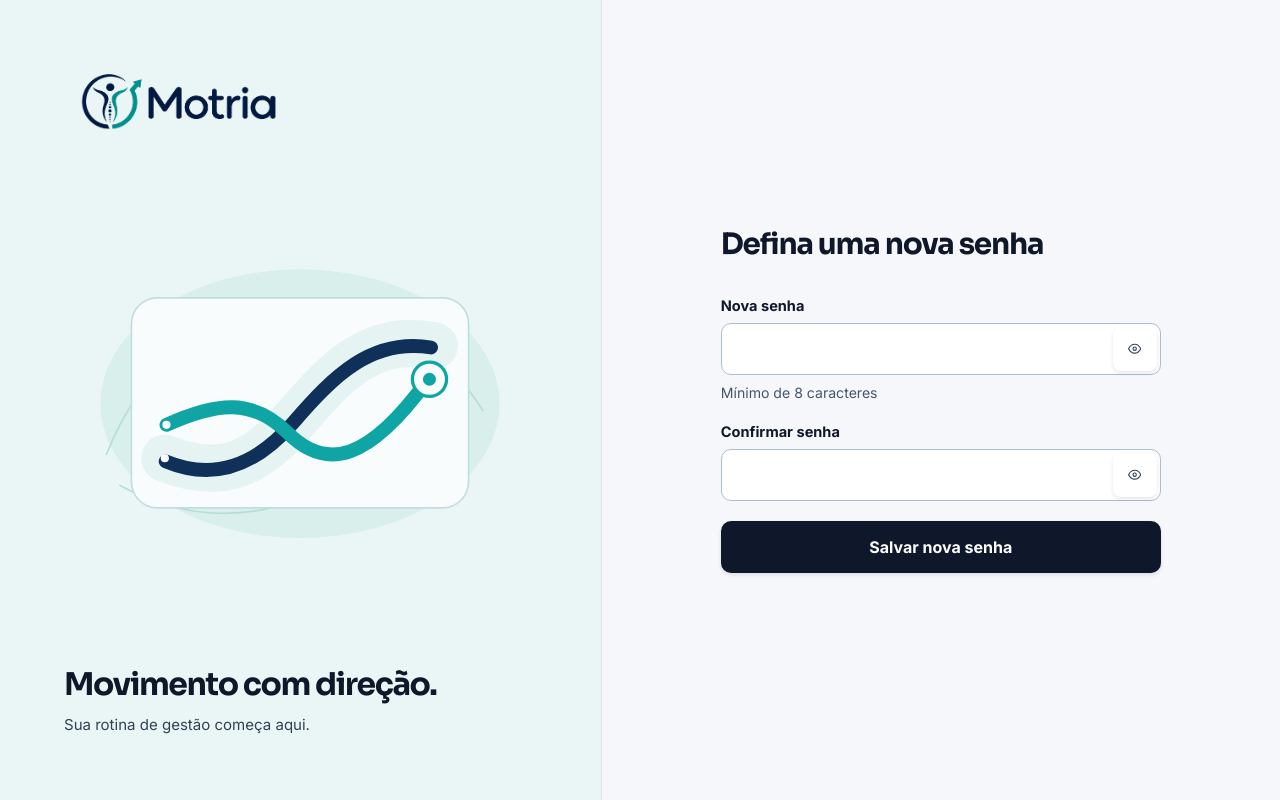
Test: redefinição usa título e ação próprios, visibilidade acessível e conclusão correta
Expected: the heading "Defina uma nova senha" is shown, [721,225,1043,263]
Expected: the text "Mínimo de 8 caracteres" is shown, [721,384,878,401]
Click the button named "Mostrar nova senha".
click(1135, 349)  # box [1113,327,1157,371]
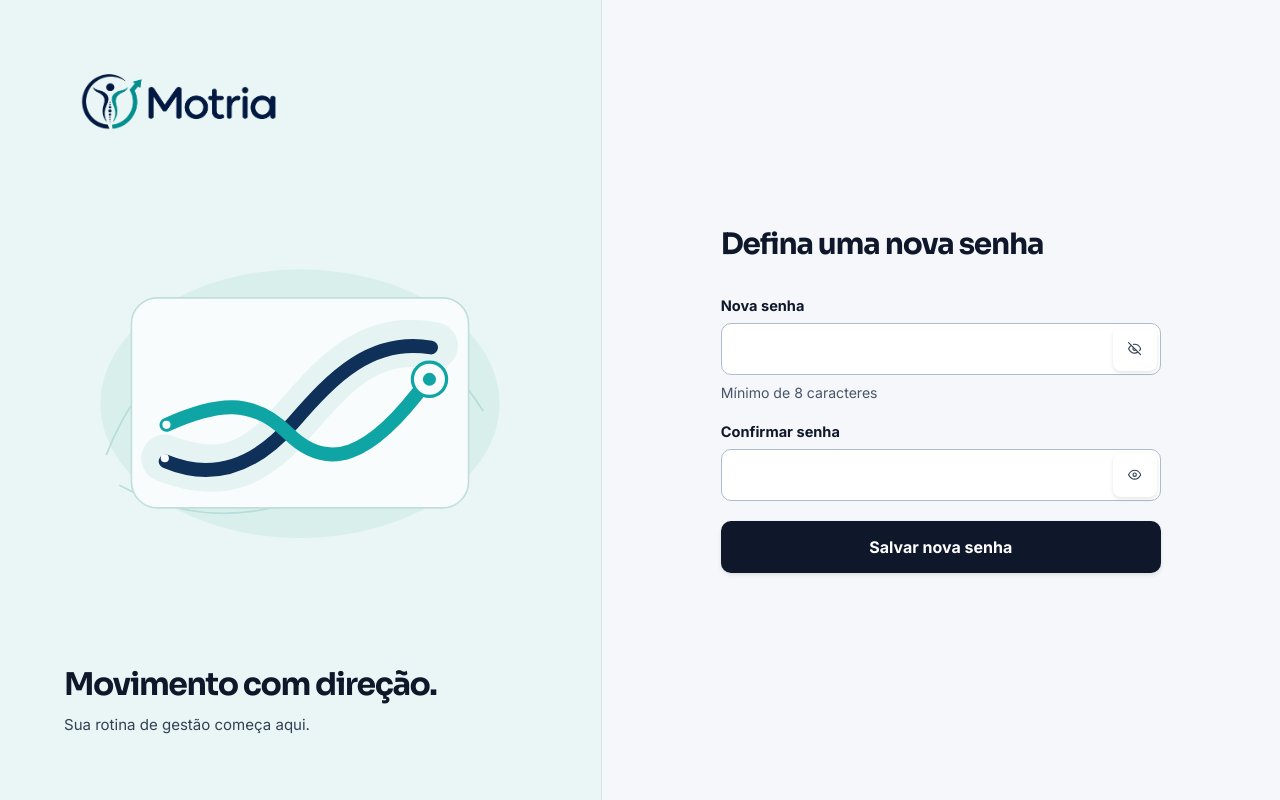
Now the button named "Ocultar nova senha" is pressed, box [1113,327,1157,371]
Click the button named "Mostrar confirmação de senha".
click(1135, 475)  # box [1113,453,1157,497]
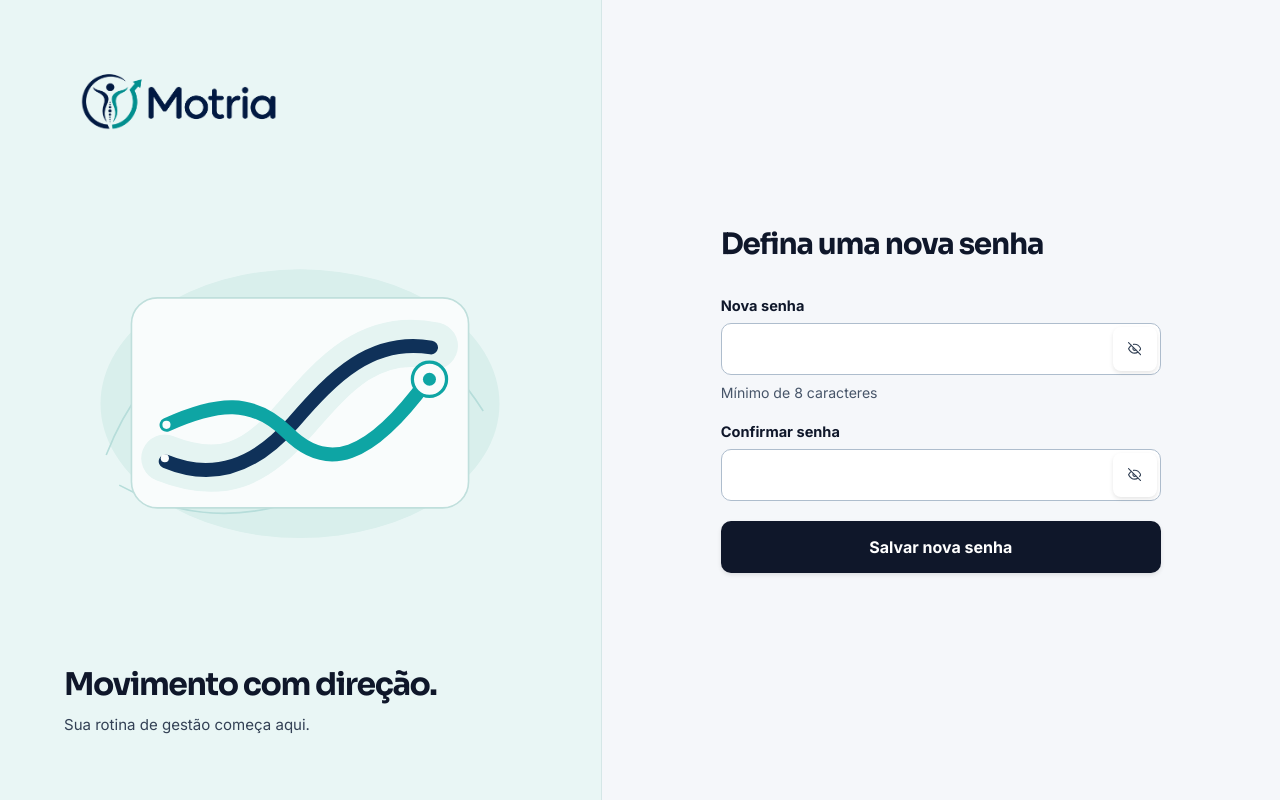
Click the button named "Ocultar confirmação de senha".
click(1135, 475)  # box [1113,453,1157,497]
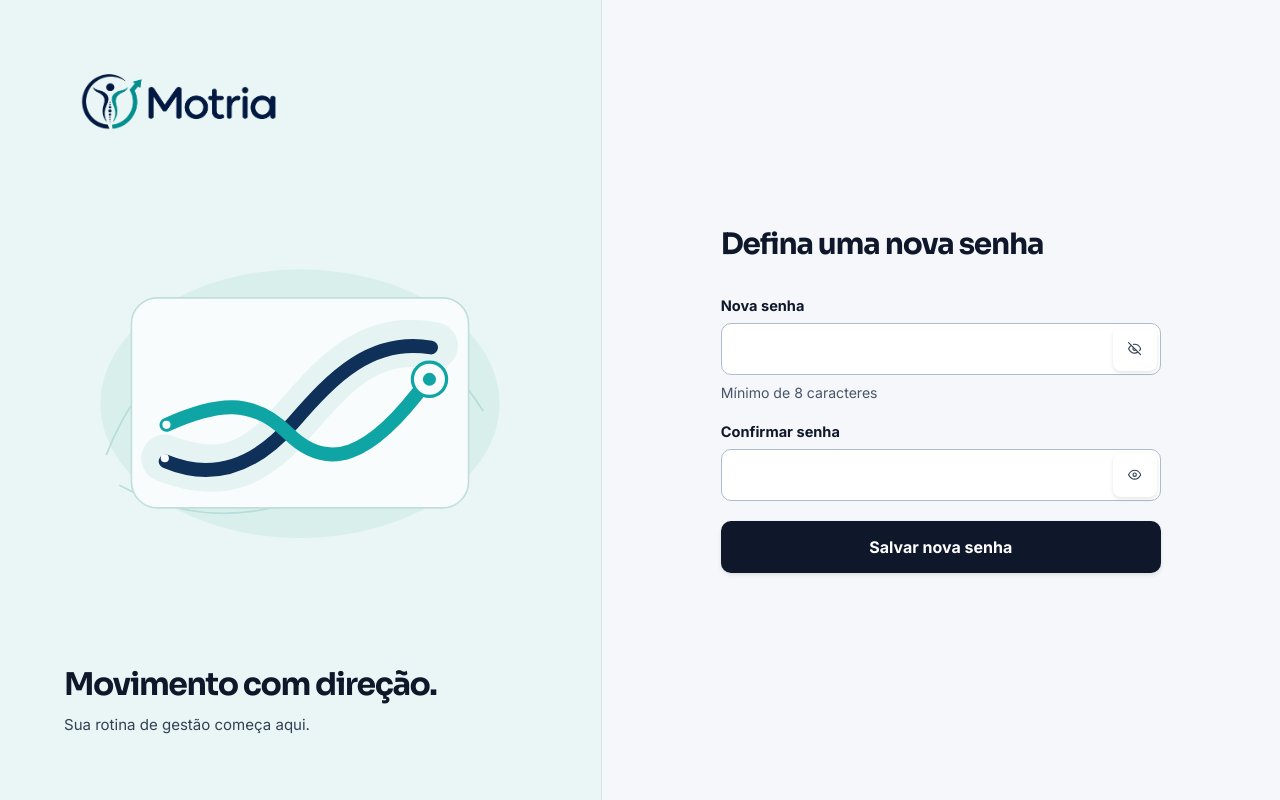
Type "uma senha forte 123" into the field labelled "Nova senha".
click(941, 349); type("uma senha forte 123")  # box [721,323,1161,375]
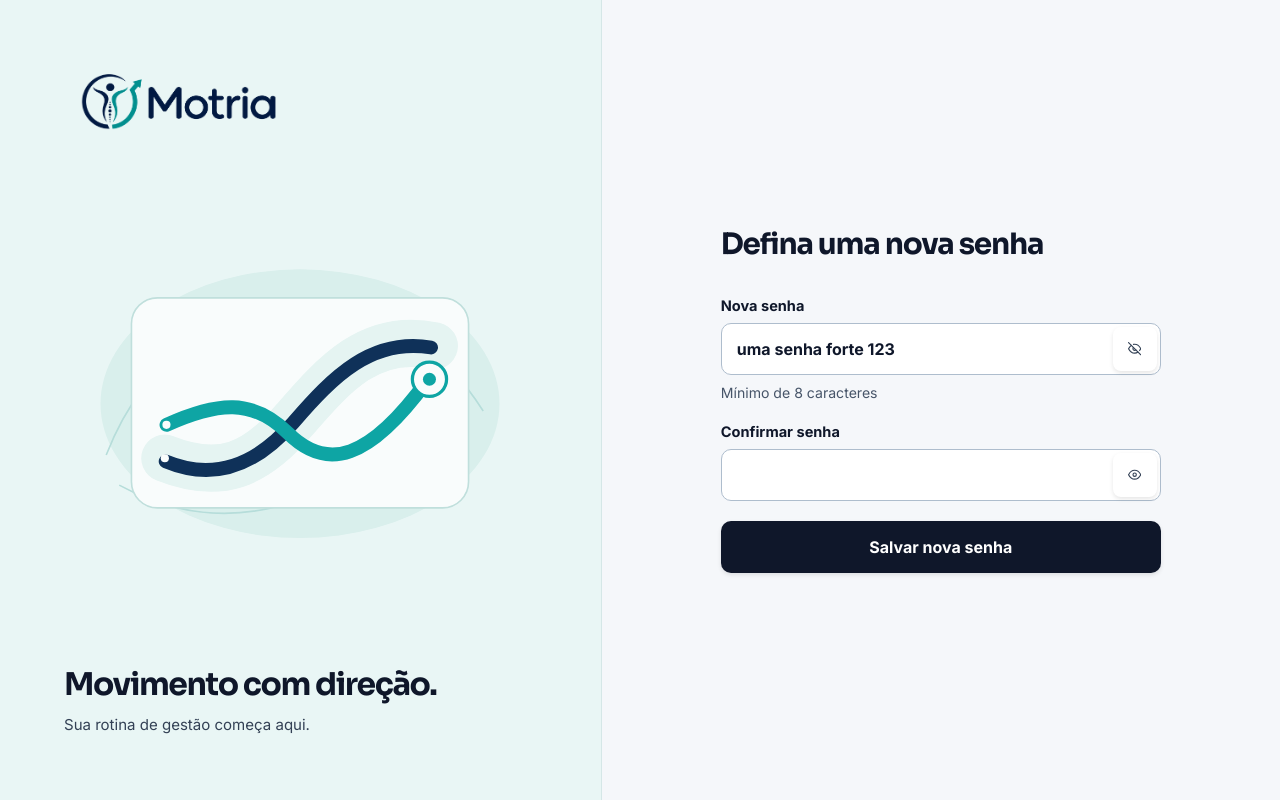
Type "uma senha forte 123" into the password field labelled "Confirmar senha".
click(941, 475); type("uma senha forte 123")  # box [721,449,1161,501]
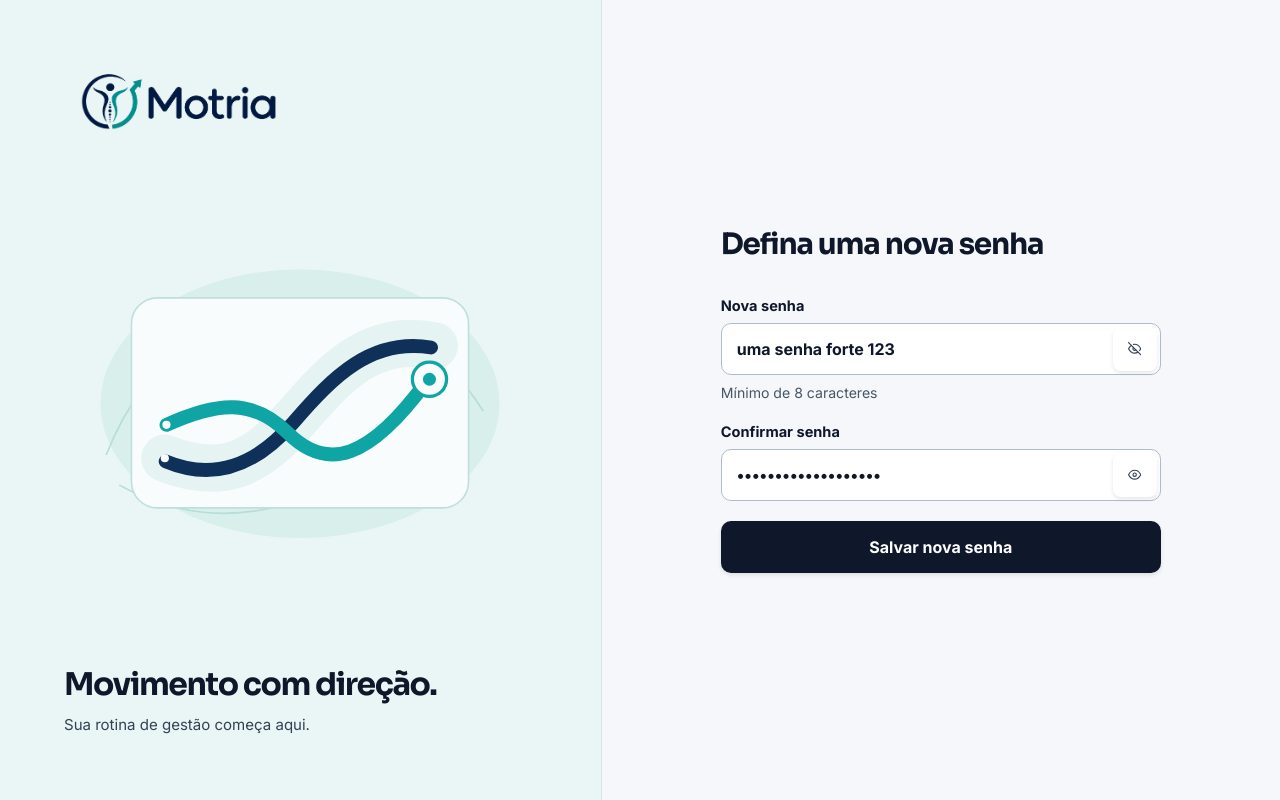
Submit the form labelled "Nova senha", box [721,297,1161,573]
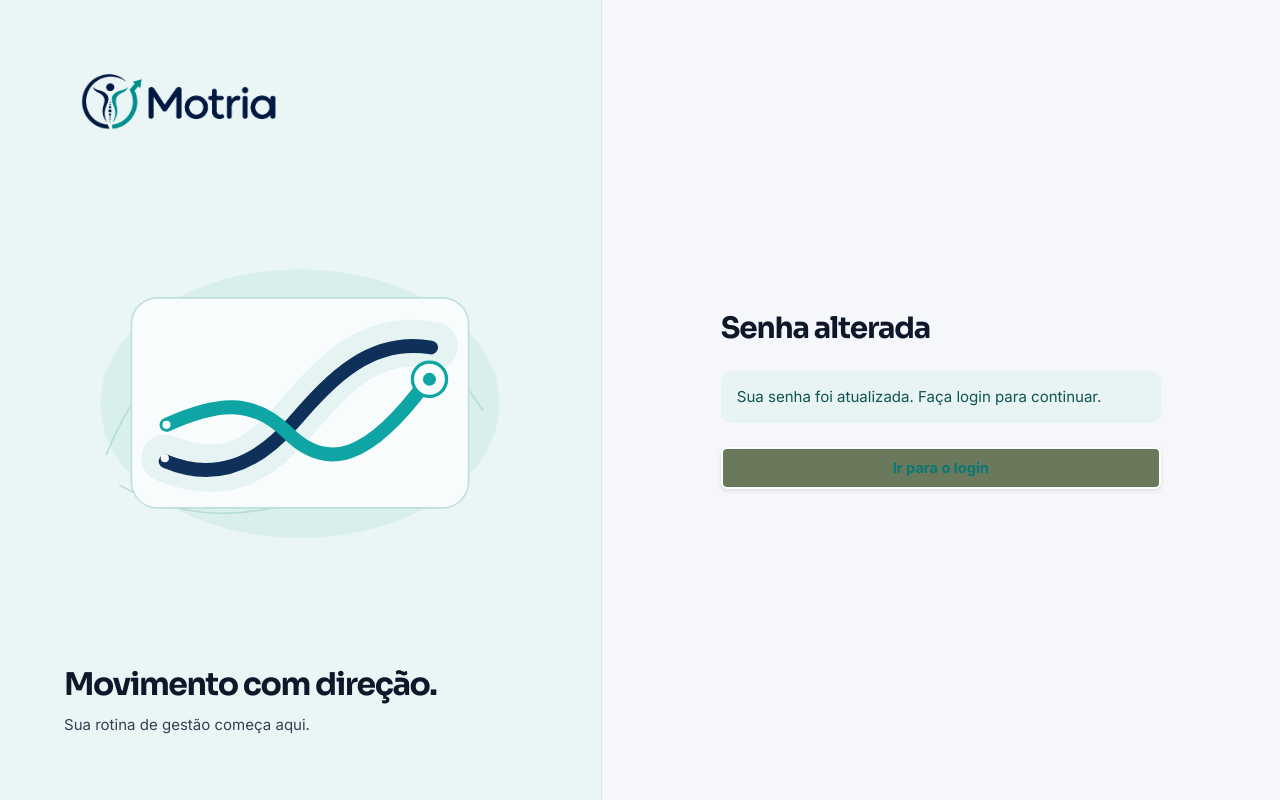
Now the heading "Senha alterada" is shown, box [721,309,930,347]
Now the message shows "Sua senha foi atualizada.", box [737,387,1101,406]
